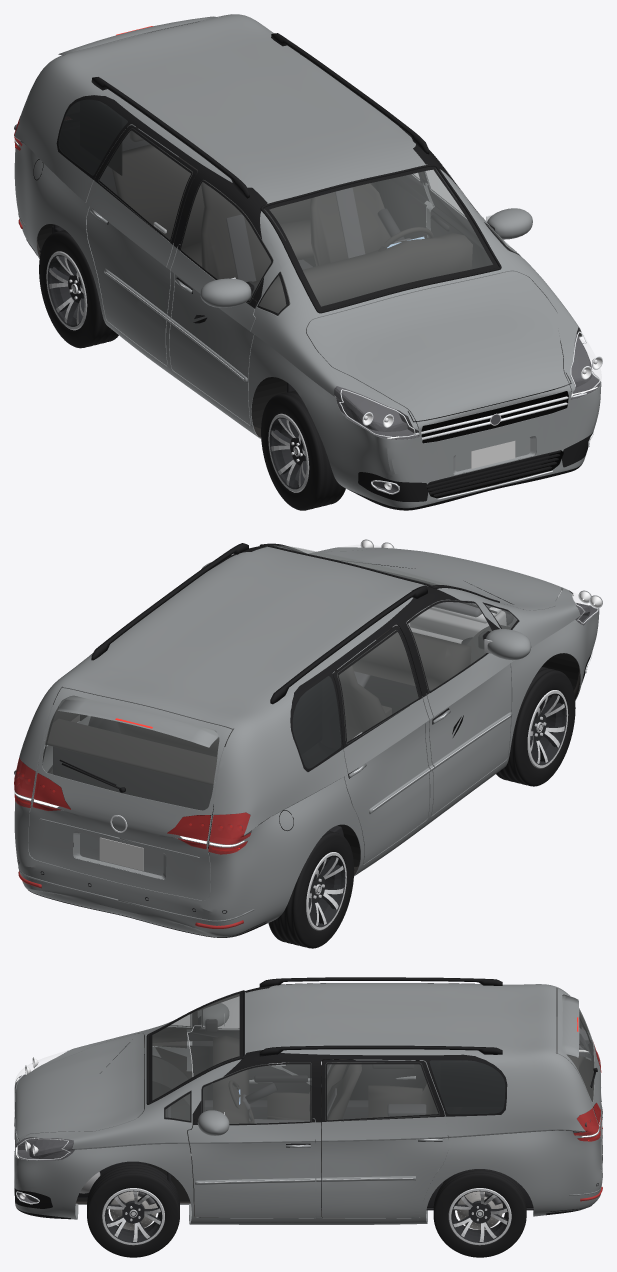
The model's file is minivan-lod0.glb.
3 renders of one model, top to bottom at view 1: azimuth 30°, elevation 25°; view 2: azimuth 150°, elevation 25°; view 3: azimuth 270°, elevation 25°, orthographic. The views are drawn at different scales.
Parts seen in each view (by area): view 1: Body, HoodSkin, Windscreen, Panel_RR, Panel_FR, Dash, Window_FR, SeatMesh_Rear_Back, Window_RR, Wheel_FR_Tyre, Seat_FL_Back, Seat_FR_Back (+24 smaller); view 2: Body, TrunkSkin, RearWindow, Panel_RR, Panel_FR, HoodSkin, Window_RR, Window_FR, Cabin_ParcelShelf, Cabin_Bulkhead, Dash, Wheel_RR_Tyre (+22 smaller); view 3: Body, Panel_RL, Panel_FL, HoodSkin, Windscreen, Window_RL, Window_FL, Wheel_FL_Tyre, Wheel_RL_Tyre, Glass_Quarter_RL, Panel_FR, Wheel_RL_Lip (+29 smaller).
Part boxes in pixels (bbox=[...]): Body: bbox=[14, 14, 601, 510]; HoodSkin: bbox=[306, 271, 568, 420]; Windscreen: bbox=[263, 166, 498, 310]; Panel_RR: bbox=[86, 125, 197, 365]; Panel_FR: bbox=[169, 244, 256, 425]; Dash: bbox=[249, 233, 472, 315]; Window_FR: bbox=[180, 180, 273, 302]; SeatMesh_Rear_Back: bbox=[112, 144, 310, 248]; Window_RR: bbox=[98, 128, 192, 241]; Wheel_FR_Tyre: bbox=[261, 390, 345, 510]; Seat_FL_Back: bbox=[310, 183, 393, 265]; Seat_FR_Back: bbox=[201, 180, 281, 280]; Body: bbox=[14, 546, 599, 937]; TrunkSkin: bbox=[29, 688, 232, 899]; RearWindow: bbox=[42, 696, 218, 810]; Panel_RR: bbox=[332, 625, 429, 863]; Panel_FR: bbox=[426, 653, 514, 815]; HoodSkin: bbox=[314, 548, 562, 610]; Window_RR: bbox=[337, 630, 419, 743]; Window_FR: bbox=[407, 600, 492, 693]; Cabin_ParcelShelf: bbox=[45, 718, 217, 785]; Cabin_Bulkhead: bbox=[53, 746, 213, 855]; Dash: bbox=[352, 627, 471, 689]; Wheel_RR_Tyre: bbox=[268, 830, 354, 948]; Body: bbox=[14, 983, 602, 1224]; Panel_RL: bbox=[322, 1060, 448, 1218]; Panel_FL: bbox=[187, 1118, 315, 1217]; HoodSkin: bbox=[15, 1033, 143, 1139]; Windscreen: bbox=[148, 992, 242, 1102]; Window_RL: bbox=[326, 1062, 439, 1121]; Window_FL: bbox=[201, 1062, 311, 1125]; Wheel_FL_Tyre: bbox=[87, 1163, 179, 1257]; Wheel_RL_Tyre: bbox=[433, 1169, 526, 1257]; Glass_Quarter_RL: bbox=[429, 1060, 505, 1114]; Panel_FR: bbox=[188, 1025, 311, 1112]; Wheel_RL_Lip: bbox=[448, 1188, 511, 1245].
Size of the model in its own units: 2.29 by 1.68 by 4.56.
